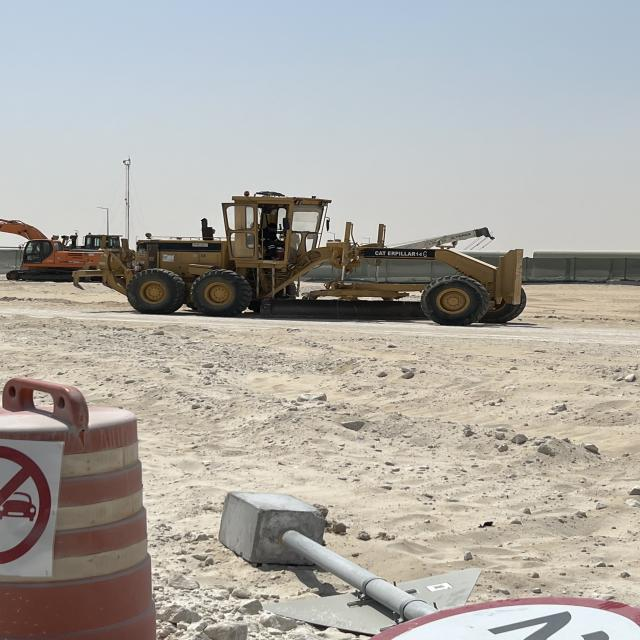Grader: (72, 186, 530, 317)
